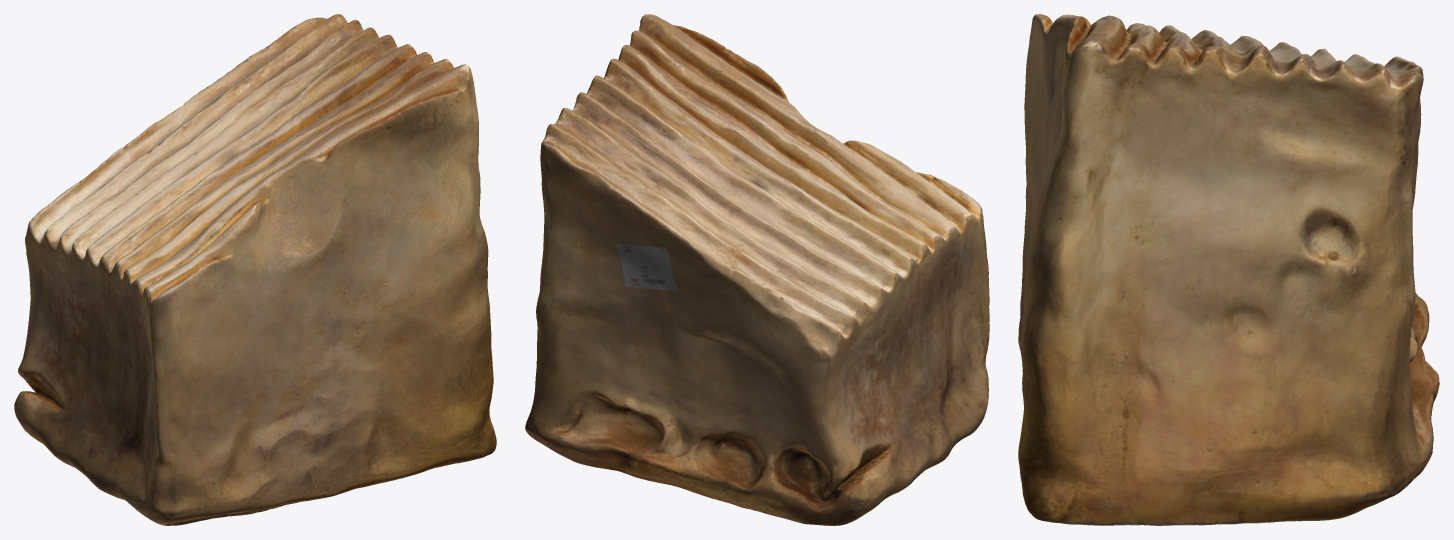
The picture shows the model from 3 angles, left to right: view 1: azimuth 30°, elevation 25°; view 2: azimuth 150°, elevation 25°; view 3: azimuth 270°, elevation 25°; orthographic projection. The views are drawn at different scales.
Parts seen in each view (by area): view 1: low; view 2: low; view 3: low.
Boxes of the visible parts, box(x1,y1,x2,y2) form: low: box(14, 14, 496, 525); low: box(525, 14, 989, 525); low: box(1018, 14, 1439, 525).
Size of the model in its own units: 2.52 by 2.51 by 2.01.
Materials: 1 (1 with a texture image).
